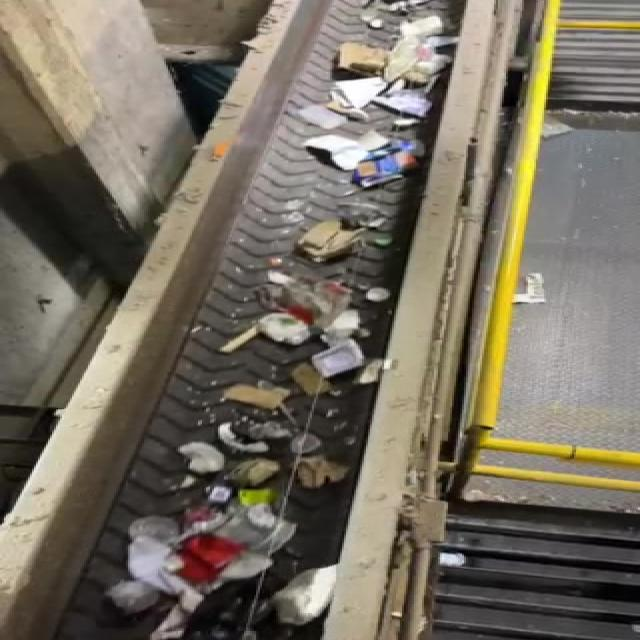paper: (220, 375, 307, 422)
ps: (308, 340, 382, 386)
